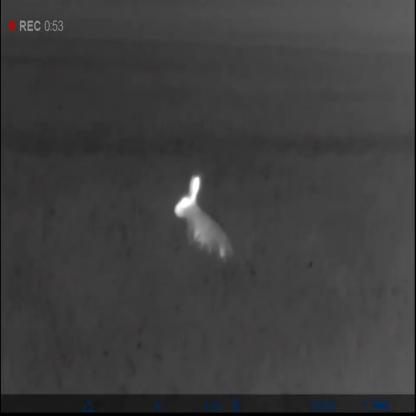rehkitze: (168, 175, 235, 264)
